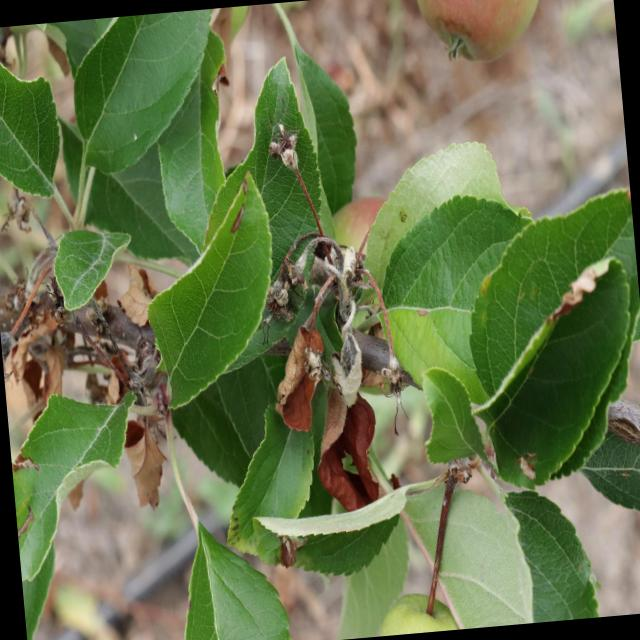-FireBlight-: (308, 372, 380, 512), (268, 262, 328, 429), (114, 357, 170, 492), (101, 257, 166, 343), (14, 313, 64, 406)
